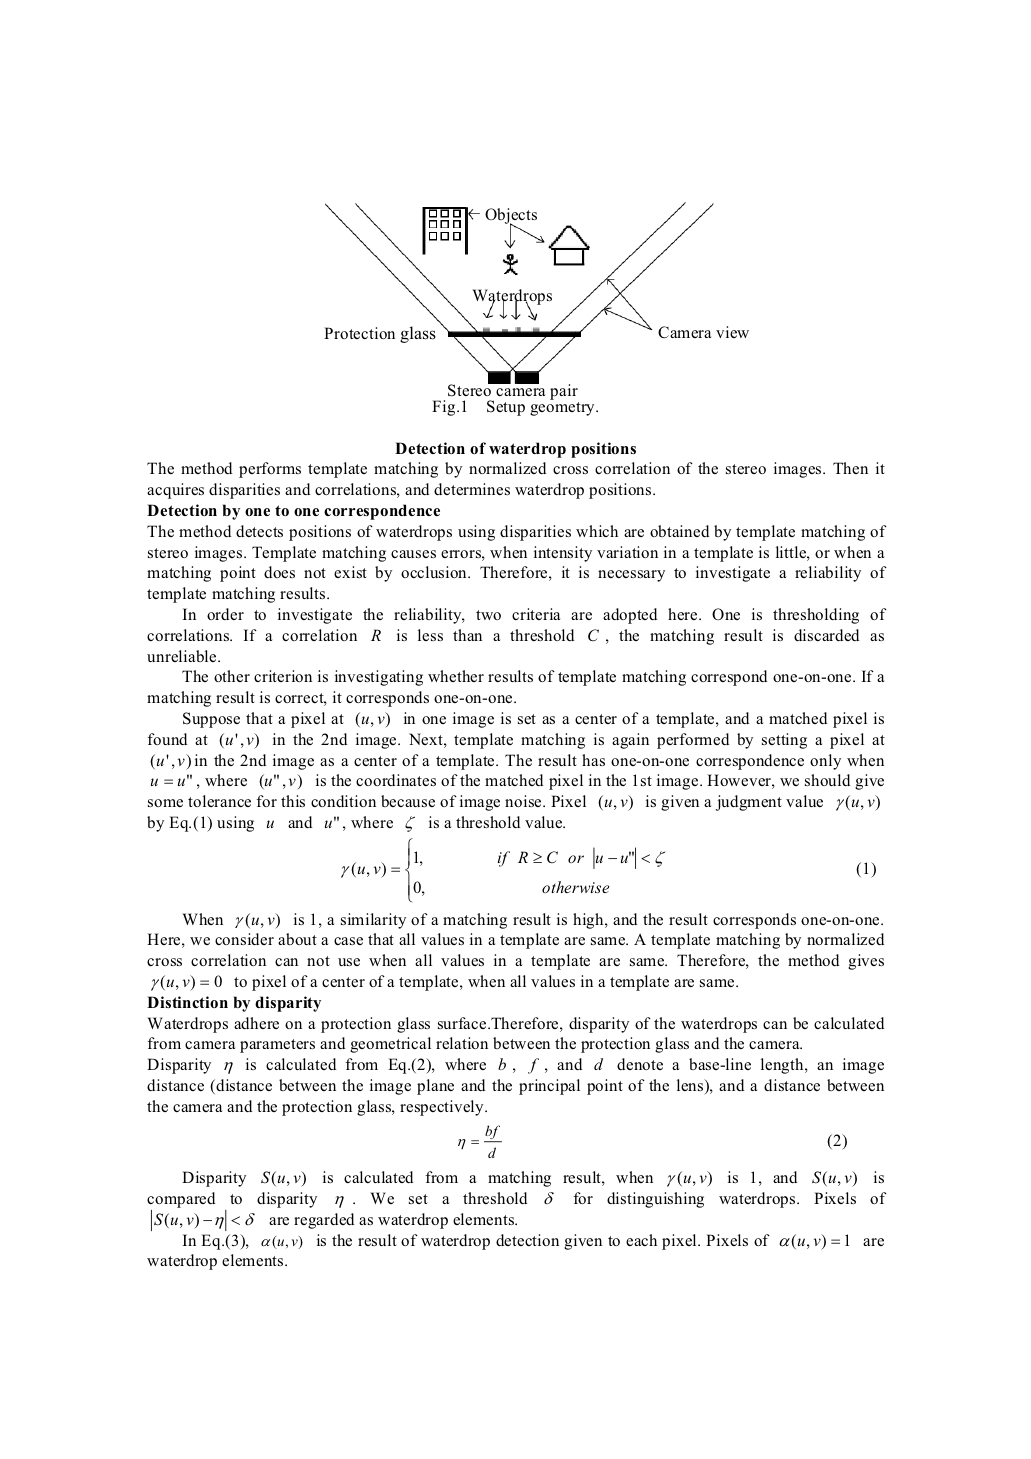figure: (324, 201, 748, 416)
formula: (341, 837, 875, 904), (457, 1124, 846, 1159)
